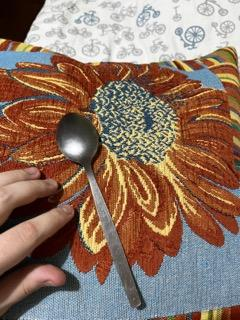spoon: (54, 110, 143, 312)
